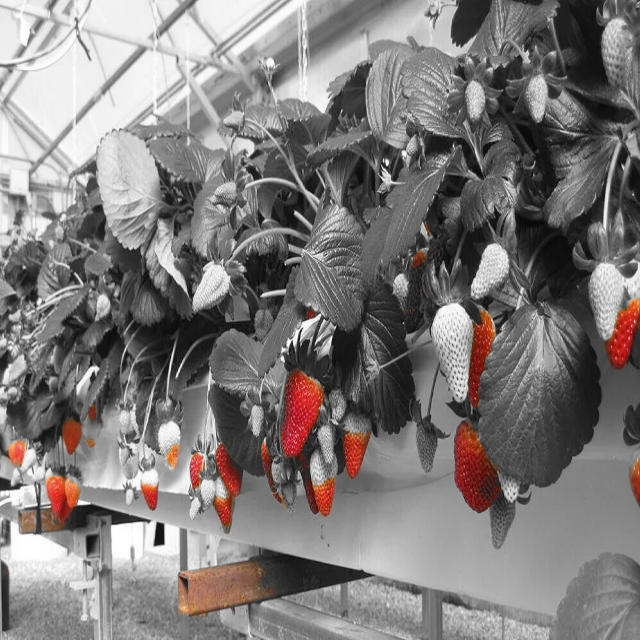ripe: (451, 419, 502, 511), (278, 367, 322, 457), (466, 304, 498, 406), (404, 251, 436, 323), (340, 408, 372, 478), (216, 442, 244, 494), (60, 409, 82, 460), (46, 470, 65, 521), (189, 449, 208, 492), (627, 446, 640, 506), (14, 439, 25, 466), (9, 440, 17, 468)
unripe: (426, 299, 474, 407), (584, 260, 622, 342), (600, 13, 637, 89), (472, 238, 510, 304), (480, 496, 523, 554), (192, 262, 232, 317), (310, 450, 340, 514), (151, 413, 180, 475), (460, 76, 490, 134), (411, 420, 436, 474), (248, 303, 280, 342), (114, 434, 142, 478), (526, 73, 550, 122), (243, 397, 269, 442), (136, 463, 161, 509), (492, 464, 522, 502), (77, 416, 109, 451), (317, 414, 338, 462), (220, 103, 248, 132), (64, 471, 82, 514), (269, 458, 291, 490), (217, 180, 242, 206), (330, 386, 346, 425), (114, 401, 132, 435), (10, 354, 30, 384), (405, 130, 422, 162), (94, 292, 112, 322), (280, 472, 294, 508), (200, 474, 213, 508), (122, 488, 139, 508), (188, 500, 199, 520)
